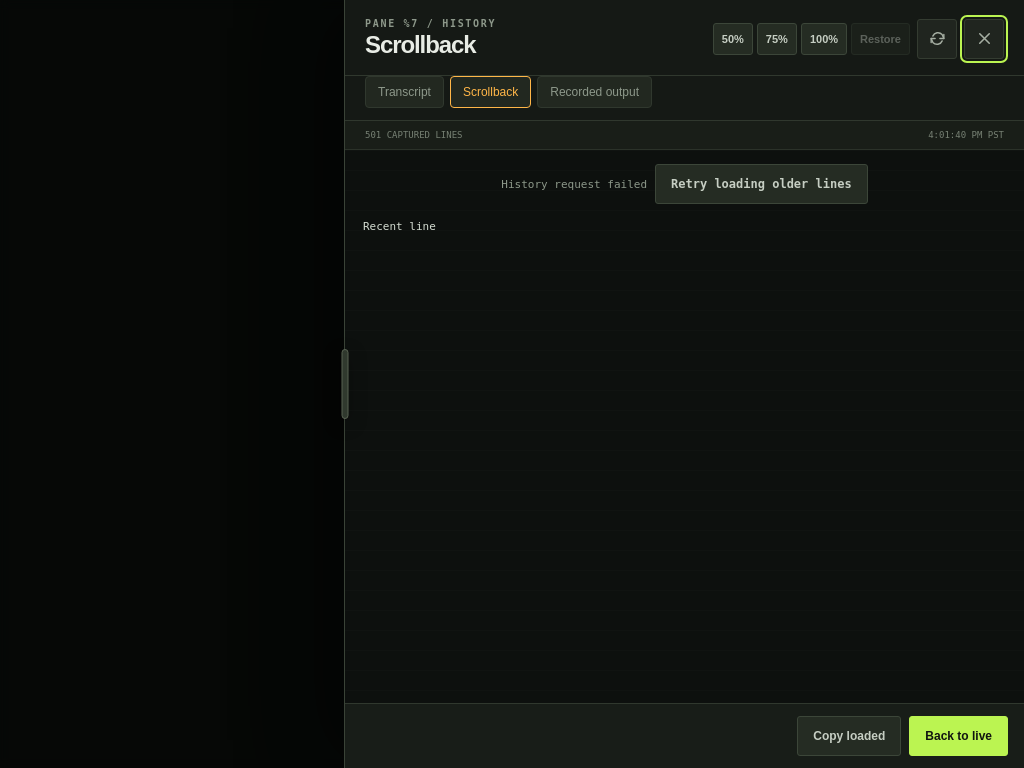
Test case: HistoryPanel › pauses automatic paging after failure and retries the same snapshot without discarding loaded lines
Expected: the text "Recent line" is shown, [363,220,436,233]
Expected: the text "History request failed" is shown, [501,178,647,190]
Step 1. Click the button "Retry loading older lines" → [761, 184], box [655,164,868,204]
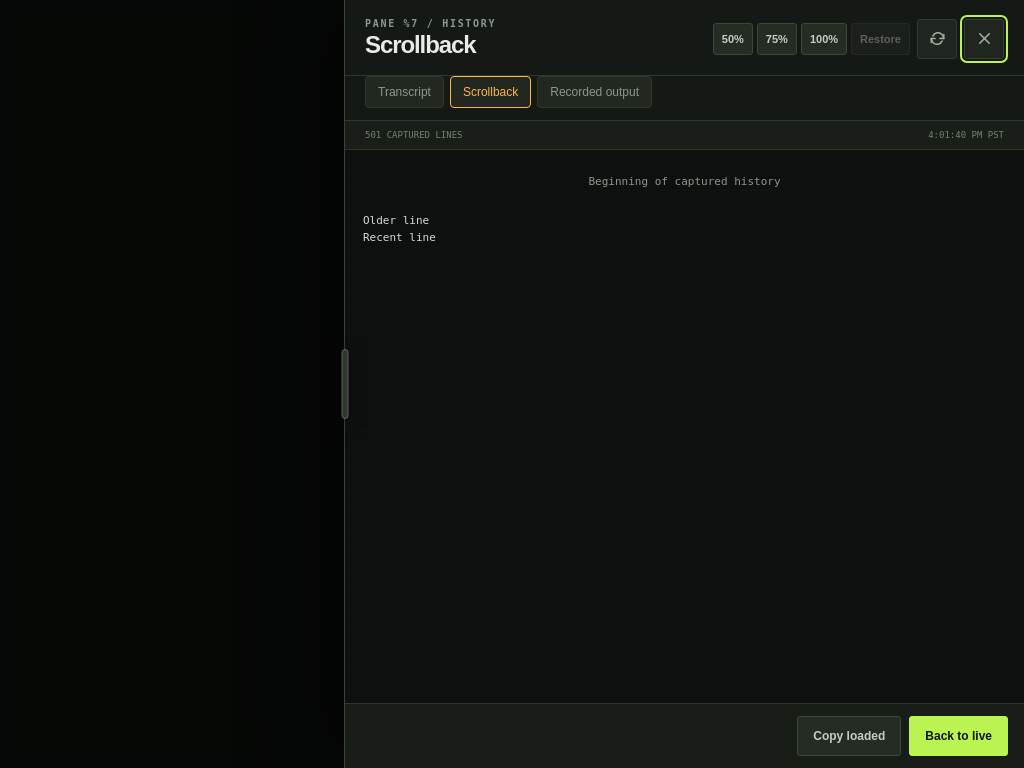
Result: the text "Beginning of captured history" is shown at [588,174,781,188]
Result: the text "History request failed" is gone
Result: the text "Recent line" reads "Older line Recent line" at [363,214,436,244]
